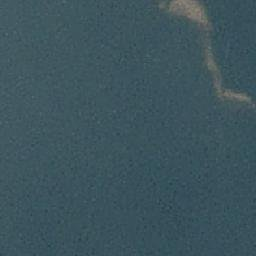debris: (202, 21, 219, 85), (158, 1, 210, 19), (214, 90, 251, 101)
